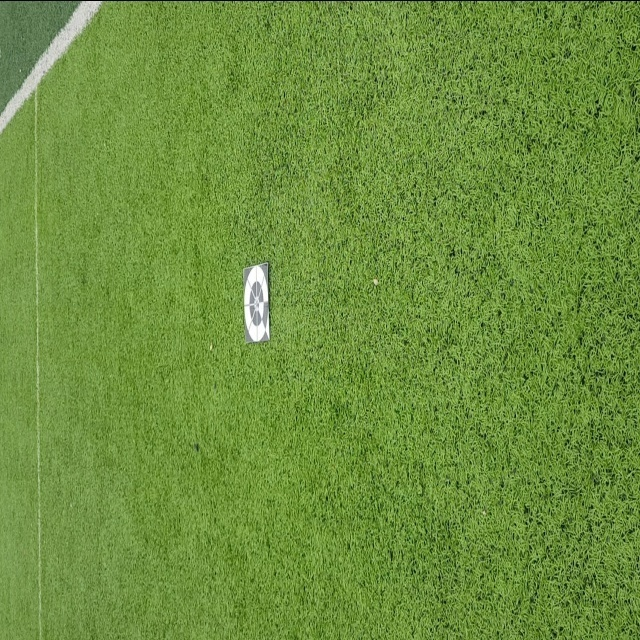landing-zone: (235, 259, 282, 350)
